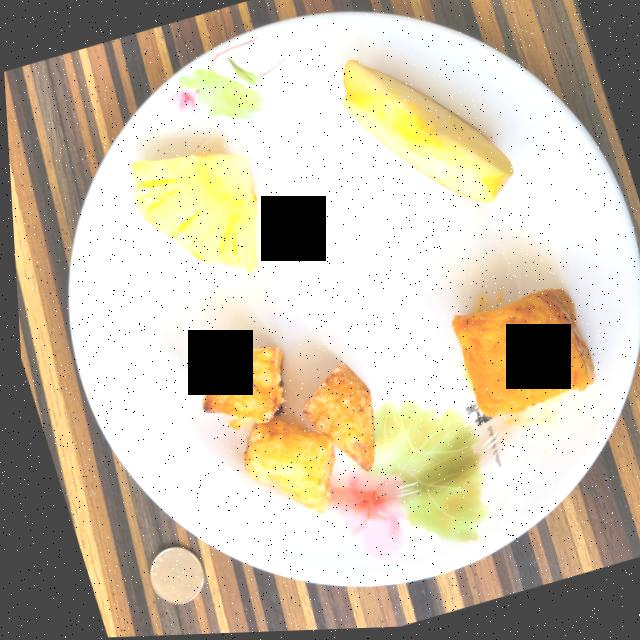apple -sliced-: (341, 61, 510, 205)
coin: (142, 546, 196, 603)
creamy tofu: (447, 291, 589, 420)
fried potato: (196, 347, 368, 514)
pineapple: (128, 154, 254, 272)
